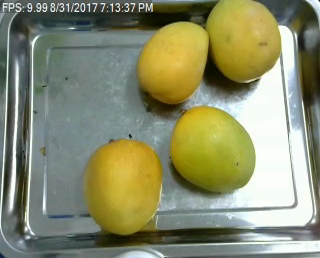Mango: (80, 140, 164, 236), (168, 106, 256, 192), (205, 1, 284, 82), (135, 20, 210, 104)
